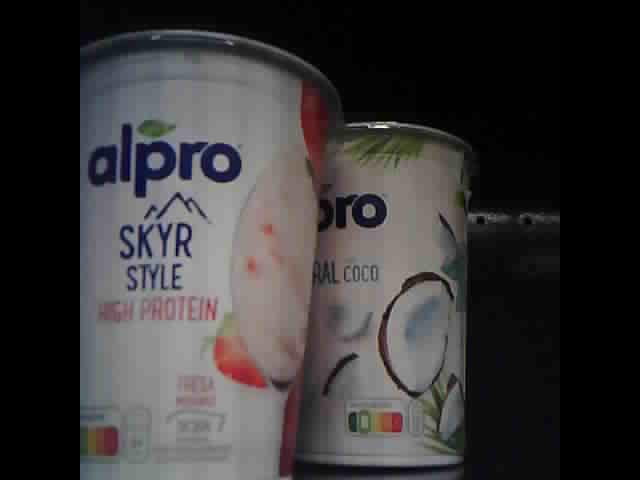alpro: (81, 27, 341, 478), (295, 116, 470, 470)
